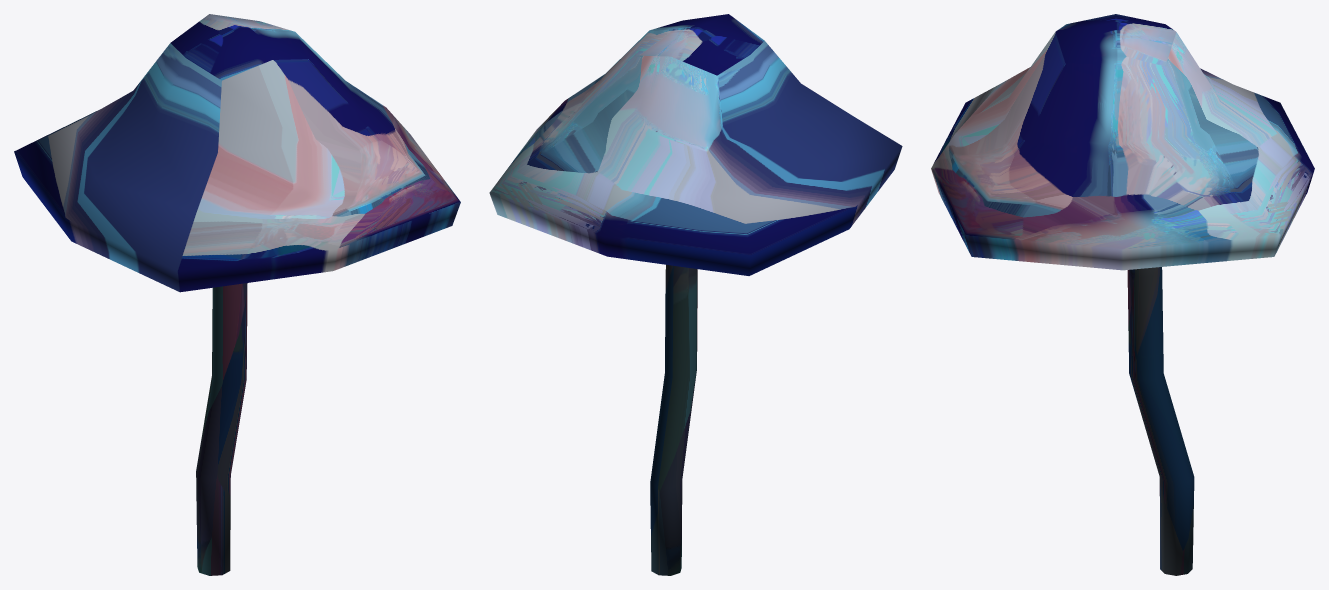
The model's file is mushroom_VAR2_2.fbx.
3 renders of one model, left to right at view 1: azimuth 30°, elevation 25°; view 2: azimuth 150°, elevation 25°; view 3: azimuth 270°, elevation 25°, orthographic. The views are drawn at different scales.
Visible parts, largest first — view 1: Cube.002, Cylinder.002; view 2: Cube.002, Cylinder.002; view 3: Cube.002, Cylinder.002.
Part boxes in pixels (box(x1,y1,x2,y2)): Cube.002: box(14, 14, 460, 292); Cylinder.002: box(196, 283, 247, 575); Cube.002: box(489, 14, 902, 275); Cylinder.002: box(650, 264, 697, 575); Cube.002: box(931, 14, 1314, 270); Cylinder.002: box(1127, 267, 1194, 575).
Bounding box in the file's own units: 309 × 483 × 309.
